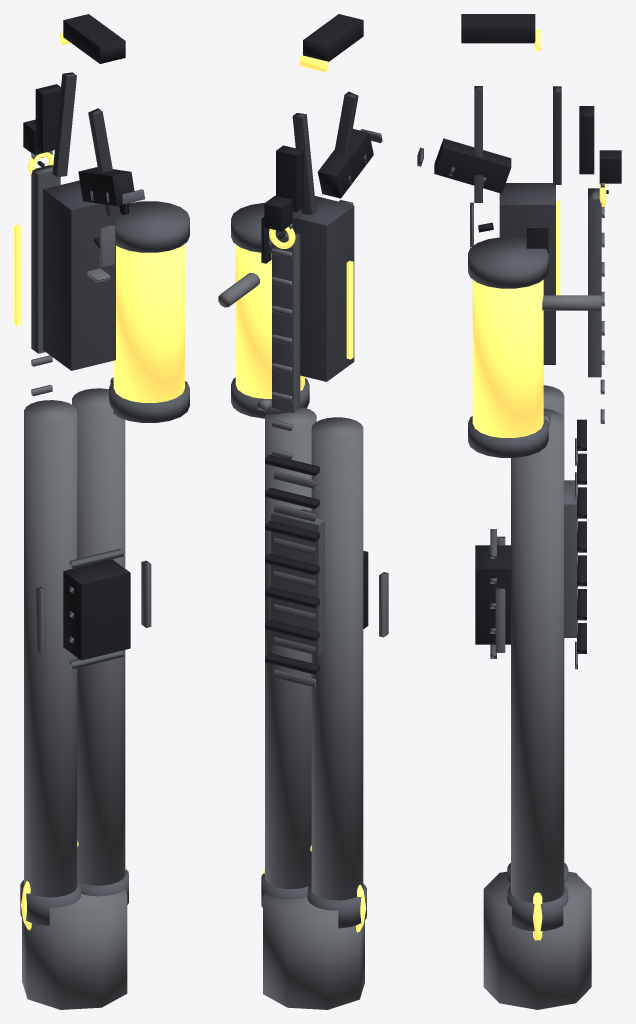
File: weapon_scattergun.glb
3 renders of one model, left to right at view 1: azimuth 30°, elevation 25°; view 2: azimuth 150°, elevation 25°; view 3: azimuth 270°, elevation 25°, orthographic. The views are drawn at different scales.
Parts seen in each view (by area): view 1: Barrel_L, Barrel_R, Receiver, MuzzleBrake, PlasmaTank, PumpForegrip, TankCap_B, UpperRailBase, ButtPad, TankCap_F, PistolGrip, StockStrut_T (+10 smaller); view 2: Barrel_L, Barrel_R, MuzzleBrake, Receiver, PlasmaTank, UpperRailBase, BarrelShroud, PistolGrip, ButtPad, CheekRiser, TankCap_B, StockStrut_T (+16 smaller); view 3: Barrel_R, MuzzleBrake, PlasmaTank, Receiver, TankCap_B, PumpForegrip, PistolGrip, UpperRailBase, ButtPad, BarrelShroud, TankCap_F, BarrelCollar_R (+8 smaller).
Part boxes in pixels (x1=…): Barrel_L: x1=24, y1=400, x2=77, y2=897; Barrel_R: x1=72, y1=388, x2=125, y2=885; Receiver: x1=43, y1=180, x2=115, y2=370; MuzzleBrake: x1=22, y1=890, x2=127, y2=1009; PlasmaTank: x1=113, y1=244, x2=184, y2=402; PumpForegrip: x1=63, y1=559, x2=130, y2=660; TankCap_B: x1=116, y1=201, x2=189, y2=252; UpperRailBase: x1=31, y1=165, x2=60, y2=353; ButtPad: x1=63, y1=14, x2=125, y2=63; TankCap_F: x1=109, y1=381, x2=189, y2=422; PistolGrip: x1=78, y1=167, x2=134, y2=206; StockStrut_T: x1=52, y1=72, x2=76, y2=177; Barrel_L: x1=311, y1=417, x2=363, y2=900; Barrel_R: x1=265, y1=407, x2=316, y2=889; MuzzleBrake: x1=263, y1=893, x2=364, y2=1009; Receiver: x1=284, y1=196, x2=354, y2=381; PlasmaTank: x1=235, y1=244, x2=304, y2=398; UpperRailBase: x1=272, y1=230, x2=300, y2=412; BarrelShroud: x1=271, y1=509, x2=324, y2=655; PistolGrip: x1=317, y1=129, x2=373, y2=198; ButtPad: x1=303, y1=14, x2=363, y2=61; CheekRiser: x1=276, y1=145, x2=303, y2=211; TankCap_B: x1=231, y1=203, x2=276, y2=252; StockStrut_T: x1=292, y1=113, x2=316, y2=214; Barrel_R: x1=511, y1=408, x2=564, y2=902; MuzzleBrake: x1=483, y1=871, x2=591, y2=1009; PlasmaTank: x1=472, y1=279, x2=543, y2=437; Receiver: x1=499, y1=183, x2=555, y2=364; TankCap_B: x1=468, y1=237, x2=548, y2=288; PumpForegrip: x1=475, y1=545, x2=511, y2=644; PistolGrip: x1=434, y1=138, x2=511, y2=193; UpperRailBase: x1=588, y1=188, x2=601, y2=377; ButtPad: x1=461, y1=14, x2=535, y2=43; BarrelShroud: x1=564, y1=480, x2=576, y2=637; TankCap_F: x1=468, y1=416, x2=548, y2=457; BarrelCollar_R: x1=507, y1=886, x2=568, y2=931.
Size of the model in its own units: 0.1754 by 1.08 by 0.208.
